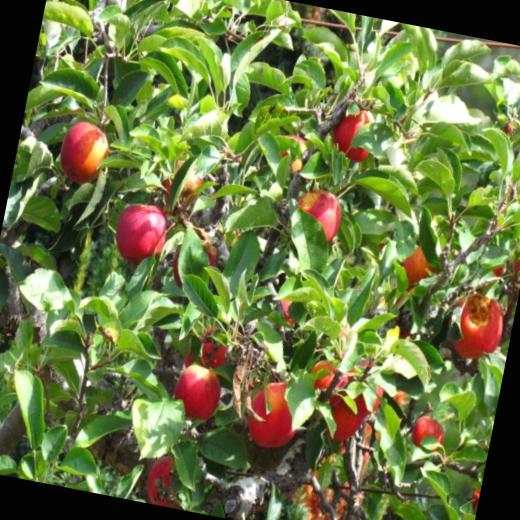Apple: (297, 358, 378, 448), (239, 377, 302, 456), (443, 292, 509, 365), (166, 350, 227, 426), (109, 196, 172, 269), (52, 121, 111, 189), (324, 106, 382, 165), (290, 184, 348, 242), (169, 233, 219, 296), (160, 158, 206, 211), (142, 454, 186, 509), (348, 358, 391, 411), (386, 280, 421, 341), (182, 338, 232, 378), (400, 243, 446, 284), (409, 413, 446, 458), (276, 132, 310, 175), (490, 251, 520, 282), (276, 295, 302, 324)
